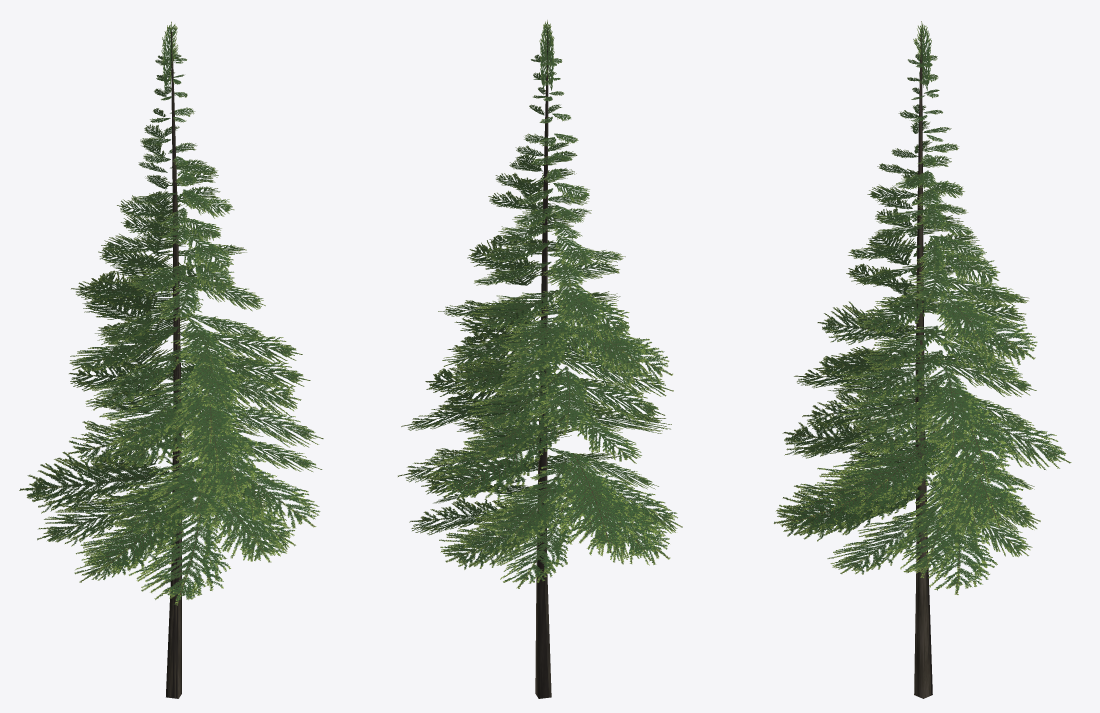
Rendered from mid.glb.
3 views of the same model, side by side, from view 1: azimuth 30°, elevation 25°; view 2: azimuth 150°, elevation 25°; view 3: azimuth 270°, elevation 25° (orthographic).
Parts seen in each view (by area): view 1: spruce_05; view 2: spruce_05; view 3: spruce_05.
Boxes of the visible parts, x1,y1,x2,y2 form: spruce_05: (19, 21, 323, 698); spruce_05: (398, 20, 682, 698); spruce_05: (774, 21, 1071, 698).
Bounding box in the file's own units: 8.14 × 18.1 × 8.44.
2 materials, 2 textured.
